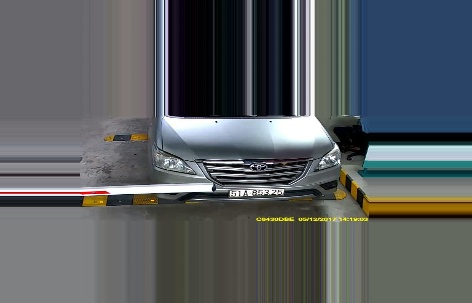plate: (228, 188, 286, 197)
